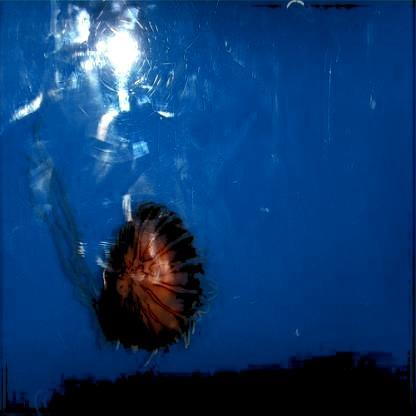Moon: (104, 206, 216, 356)
